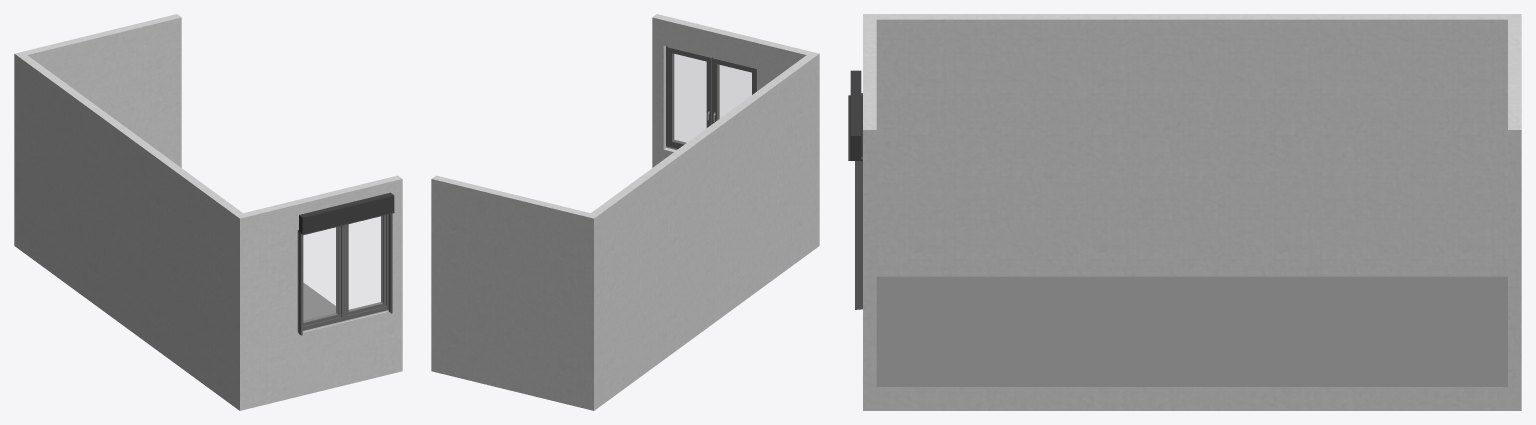
The picture shows the model from 3 angles, left to right: view 1: azimuth 30°, elevation 25°; view 2: azimuth 150°, elevation 25°; view 3: azimuth 270°, elevation 25°; orthographic projection. The views are drawn at different scales.
Parts seen in each view (by area): view 1: StaticMeshActor.UAID.9CB6D010B688066F01.1331194016, StaticMeshActor.UAID.9CB6D010B688066F01.1331194017, StaticMeshActor.UAID.9CB6D010B688066F01.1331195018, StaticMeshActor.UAID.9CB6D010B688066F01.1331201038, StaticMeshActor_UAID_9CB6D010B688066F01_1331199033, StaticMeshActor_UAID_9CB6D010B688066F01_1331198029, StaticMeshActor_UAID_9CB6D010B688066F01_1331197026, StaticMeshActor_UAID_9CB6D010B688066F01_1331200037, StaticMeshActor_UAID_9CB6D010B688066F01_1331198028, StaticMeshActor_UAID_9CB6D010B688066F01_1331199032, StaticMeshActor_UAID_9CB6D010B688066F01_1331197024, StaticMeshActor_UAID_9CB6D010B688066F01_1331196022; view 2: StaticMeshActor.UAID.9CB6D010B688066F01.1331194016, StaticMeshActor.UAID.9CB6D010B688066F01.1331195018, StaticMeshActor.UAID.9CB6D010B688066F01.1331201038, StaticMeshActor.UAID.9CB6D010B688066F01.1331194017, StaticMeshActor_UAID_9CB6D010B688066F01_1331198029, StaticMeshActor_UAID_9CB6D010B688066F01_1331199033, StaticMeshActor_UAID_9CB6D010B688066F01_1331198030, StaticMeshActor_UAID_9CB6D010B688066F01_1331200034; view 3: StaticMeshActor.UAID.9CB6D010B688066F01.1331194016, StaticMeshActor.UAID.9CB6D010B688066F01.1331201038, StaticMeshActor.UAID.9CB6D010B688066F01.1331194017, StaticMeshActor.UAID.9CB6D010B688066F01.1331195018, StaticMeshActor_UAID_9CB6D010B688066F01_1331197026, StaticMeshActor_UAID_9CB6D010B688066F01_1331196022.
Boxes of the visible parts, x1,y1,x2,y2 form: StaticMeshActor.UAID.9CB6D010B688066F01.1331194016: (14,51,247,394); StaticMeshActor.UAID.9CB6D010B688066F01.1331194017: (243,175,402,392); StaticMeshActor.UAID.9CB6D010B688066F01.1331195018: (23,14,181,167); StaticMeshActor.UAID.9CB6D010B688066F01.1331201038: (14,229,402,410); StaticMeshActor_UAID_9CB6D010B688066F01_1331199033: (303,227,337,322); StaticMeshActor_UAID_9CB6D010B688066F01_1331198029: (349,216,382,311); StaticMeshActor_UAID_9CB6D010B688066F01_1331197026: (298,192,394,234); StaticMeshActor_UAID_9CB6D010B688066F01_1331200037: (297,214,388,331); StaticMeshActor_UAID_9CB6D010B688066F01_1331198028: (346,215,386,315); StaticMeshActor_UAID_9CB6D010B688066F01_1331199032: (302,226,340,326); StaticMeshActor_UAID_9CB6D010B688066F01_1331197024: (298,230,302,335); StaticMeshActor_UAID_9CB6D010B688066F01_1331196022: (388,213,392,313); StaticMeshActor.UAID.9CB6D010B688066F01.1331194016: (586,51,819,394); StaticMeshActor.UAID.9CB6D010B688066F01.1331195018: (431,175,590,392); StaticMeshActor.UAID.9CB6D010B688066F01.1331201038: (431,229,819,410); StaticMeshActor.UAID.9CB6D010B688066F01.1331194017: (652,14,810,167); StaticMeshActor_UAID_9CB6D010B688066F01_1331198029: (672,54,706,143); StaticMeshActor_UAID_9CB6D010B688066F01_1331199033: (718,64,751,119); StaticMeshActor_UAID_9CB6D010B688066F01_1331198030: (667,47,711,147); StaticMeshActor_UAID_9CB6D010B688066F01_1331200034: (712,58,756,123); StaticMeshActor.UAID.9CB6D010B688066F01.1331194016: (863,14,1521,276); StaticMeshActor.UAID.9CB6D010B688066F01.1331201038: (863,276,1521,410); StaticMeshActor.UAID.9CB6D010B688066F01.1331194017: (863,19,876,386); StaticMeshActor.UAID.9CB6D010B688066F01.1331195018: (1508,19,1521,386); StaticMeshActor_UAID_9CB6D010B688066F01_1331197026: (848,70,862,160); StaticMeshActor_UAID_9CB6D010B688066F01_1331196022: (855,157,862,309).
Size of what is drawn, in the model's own units: 3 by 3.39 by 7.36.
Materials: 10 (5 with a texture image).
